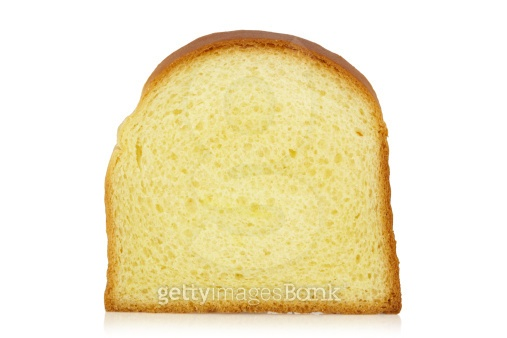slice of bread: (100, 26, 406, 319)
